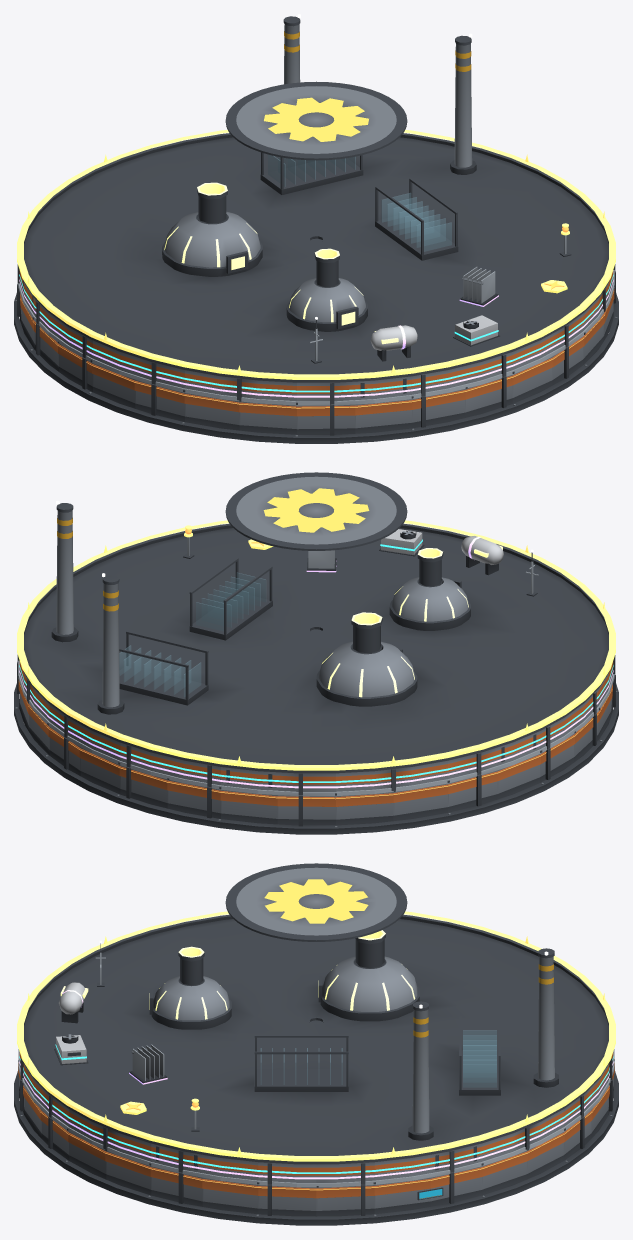
Rendered from glassworks_xl.glb.
3 renders of one model, top to bottom at view 1: azimuth 30°, elevation 25°; view 2: azimuth 150°, elevation 25°; view 3: azimuth 270°, elevation 25°, orthographic.
Visible parts, largest first — view 1: Roof, Base, L4, Wall_21, Wall_20, Wall_22, Wall_19, Wall_23, Wall_18, Wall_24, Wall_17, Wall_25 (+15 smaller); view 2: Roof, Base, Wall_10, L4, Wall_11, Wall_09, Wall_12, Wall_08, Wall_13, Wall_07, Wall_14, Wall_06 (+16 smaller); view 3: Roof, Base, L4, Wall_00, Wall_31, Wall_30, Wall_01, Wall_29, Wall_02, Wall_03, Wall_28, Wall_04 (+16 smaller).
Part boxes in pixels (box(x1,y1,x2,y2)): Roof: box(23, 14, 609, 382); Base: box(14, 293, 618, 443); L4: box(370, 267, 498, 361); Wall_21: box(297, 404, 355, 435); Wall_20: box(239, 400, 296, 434); Wall_22: box(355, 399, 412, 433); Wall_19: box(184, 393, 239, 430); Wall_23: box(412, 389, 465, 428); Wall_18: box(134, 379, 184, 421); Wall_24: box(465, 375, 513, 417); Wall_17: box(92, 363, 135, 408); Wall_25: box(512, 357, 553, 403); Roof: box(23, 472, 609, 773); Base: box(14, 683, 618, 834); Wall_10: box(277, 795, 335, 826); L4: box(306, 536, 503, 575); Wall_11: box(336, 792, 393, 825); Wall_09: box(220, 790, 277, 824); Wall_12: box(393, 783, 448, 821); Wall_08: box(167, 778, 220, 818); Wall_13: box(448, 770, 498, 812); Wall_07: box(119, 765, 167, 808); Wall_14: box(497, 754, 540, 799); Wall_06: box(79, 747, 120, 794); Roof: box(23, 863, 609, 1164); Base: box(14, 1071, 618, 1225); L4: box(59, 982, 167, 1084); Wall_00: box(316, 1184, 374, 1216); Wall_31: box(258, 1184, 316, 1216); Wall_30: box(202, 1177, 258, 1214); Wall_01: box(374, 1177, 430, 1214); Wall_29: box(150, 1166, 202, 1206); Wall_02: box(430, 1166, 482, 1206); Wall_03: box(481, 1150, 527, 1195); Wall_28: box(105, 1149, 151, 1195); Wall_04: box(526, 1132, 564, 1179).
Size of the model in its own units: 23.15 by 8.28 by 23.15.
